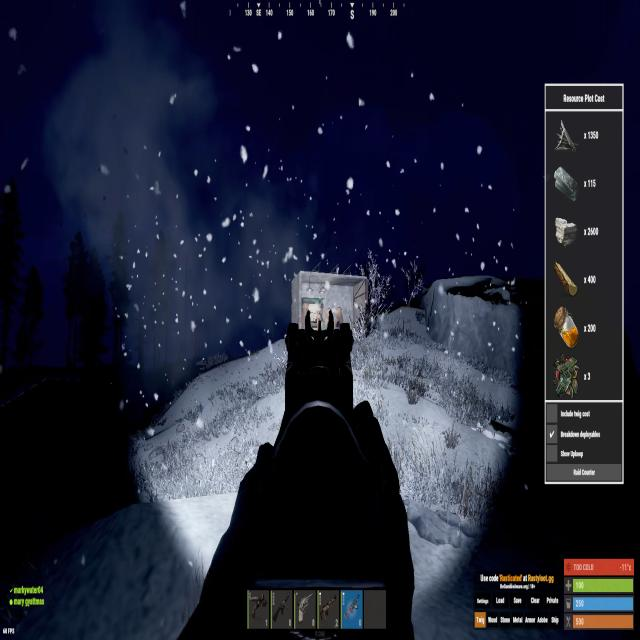Player: (316, 302, 322, 331)
